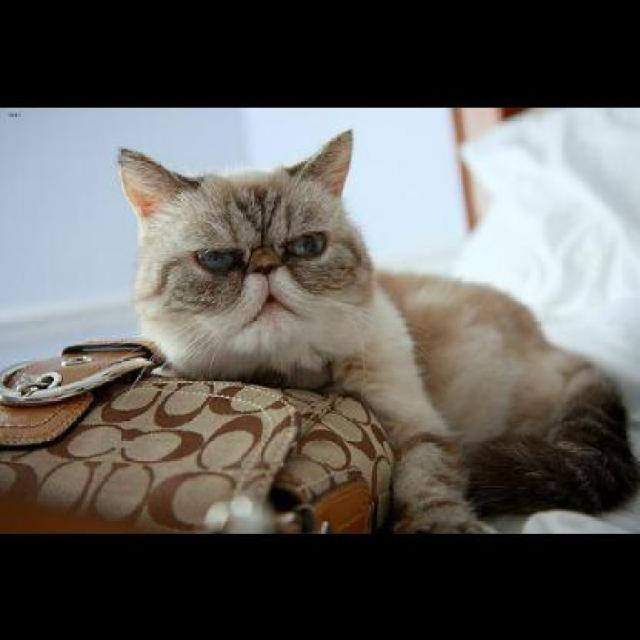unauthorized: (116, 126, 638, 534)
